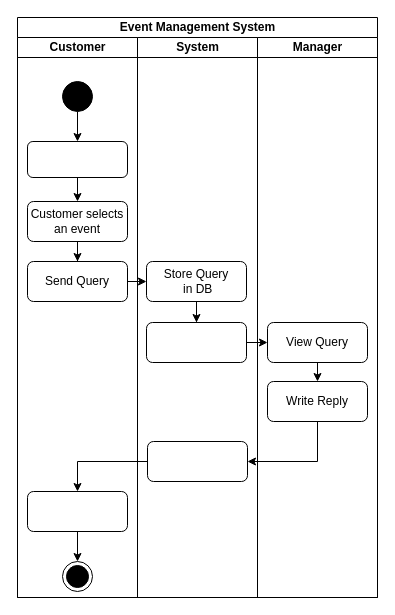
The diagram is 395 pixels wide and 615 high, and some of its shapes have lost their labels. The shapes that lost their labels are listed below. From the top down, each one's centre as x and y in pixels, then its label:
At point 77,159: "Customer logs in".
At point 196,342: "Manager Logs In".
At point 197,461: "Send Notification".
At point 77,511: "View Notification".
